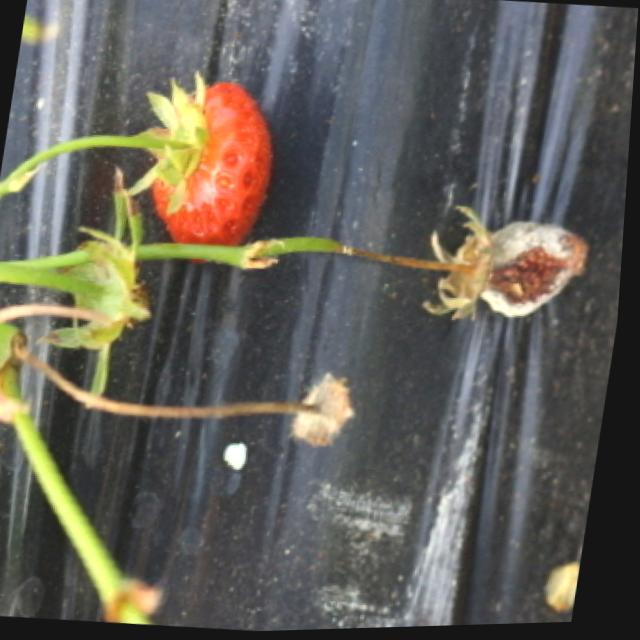Gray Mold: (425, 208, 595, 326)
